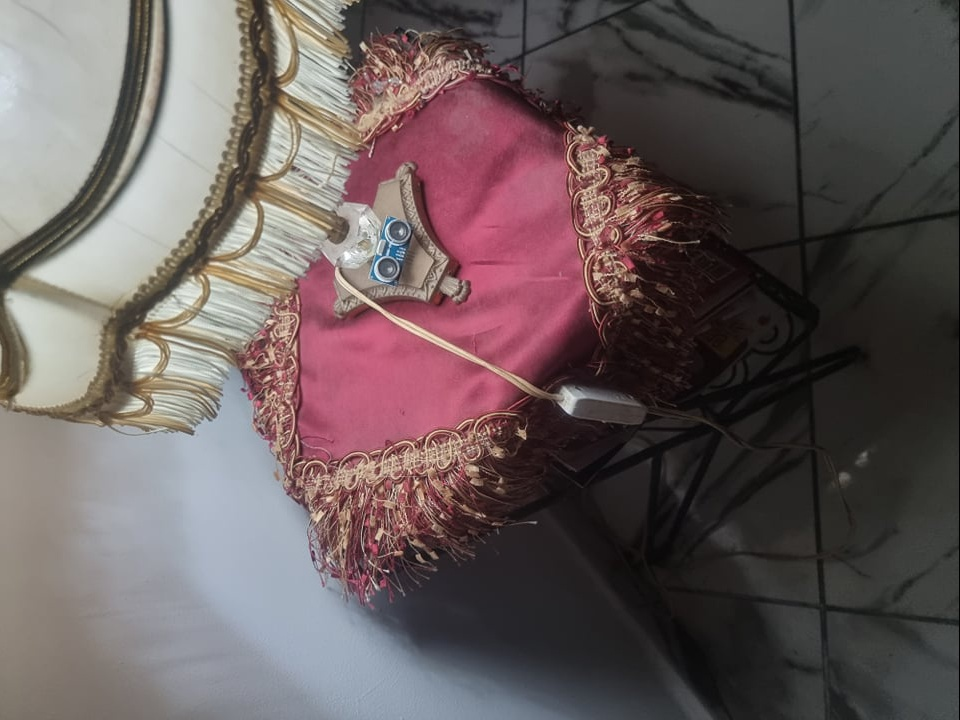SENSOR: (370, 214, 415, 289)
